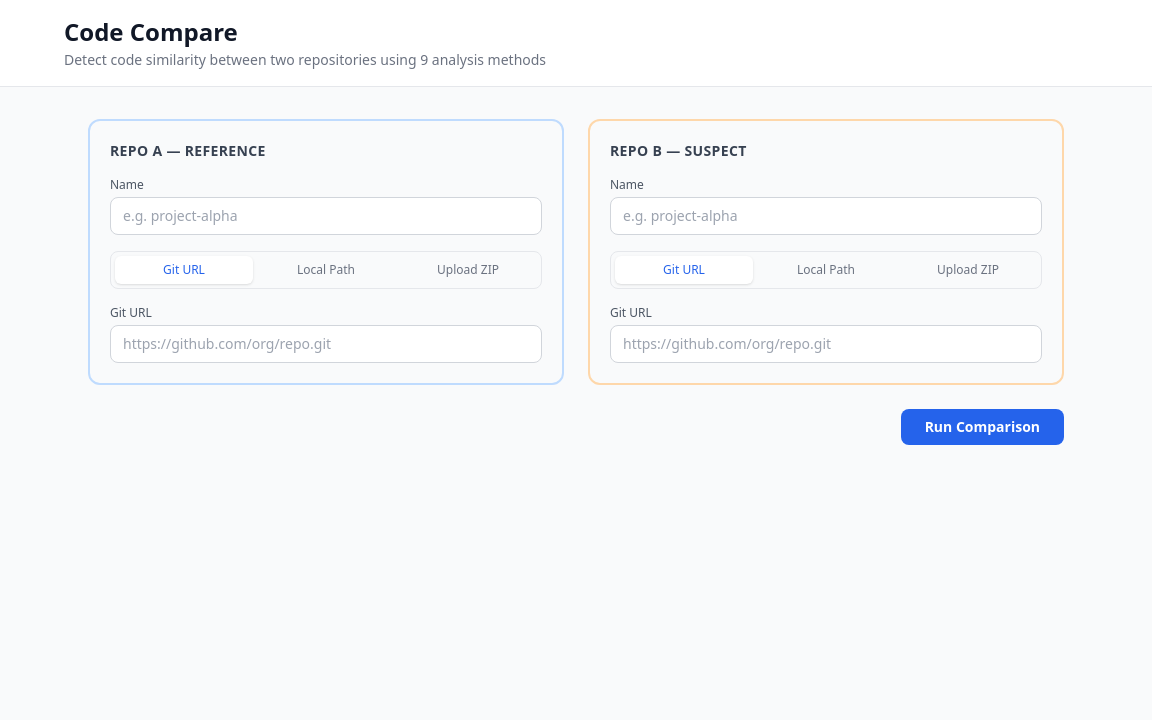
Test case: App › shows error message on failed submission
This screenshot has width=1152, height=720.
Click the button "Run Comparison" at (982, 427), box 901,409 -> 1064,445
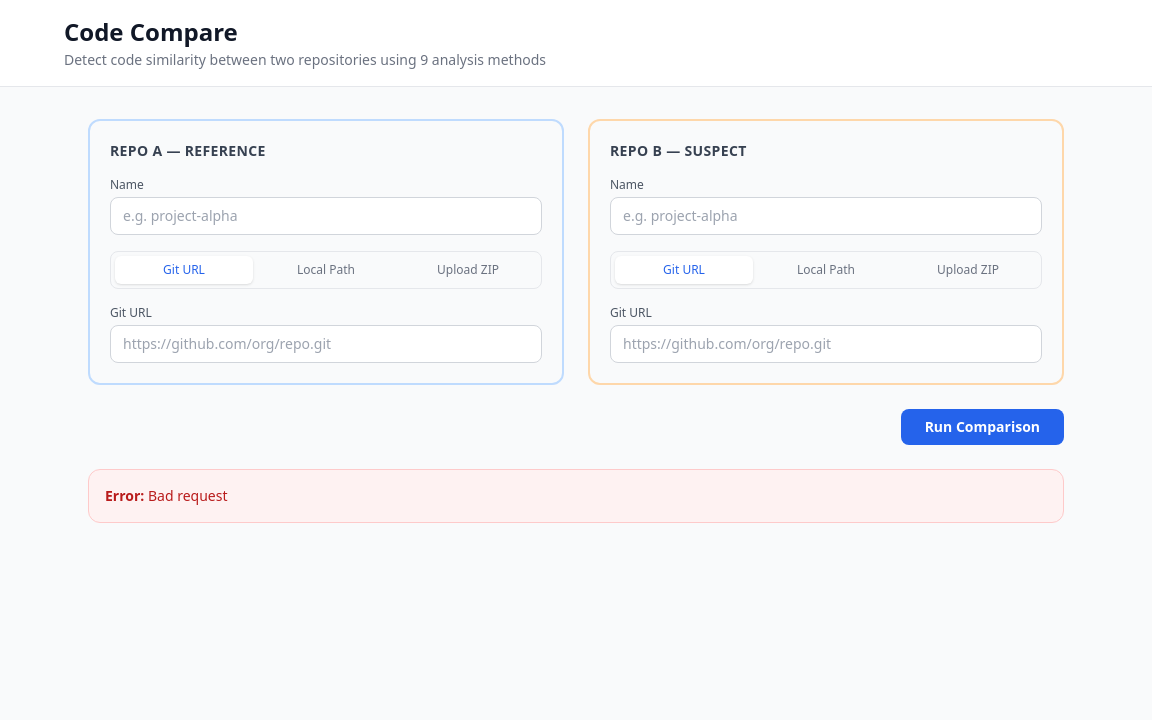
Result: the text "Error: Bad request" is shown at 88,469 -> 1064,523
